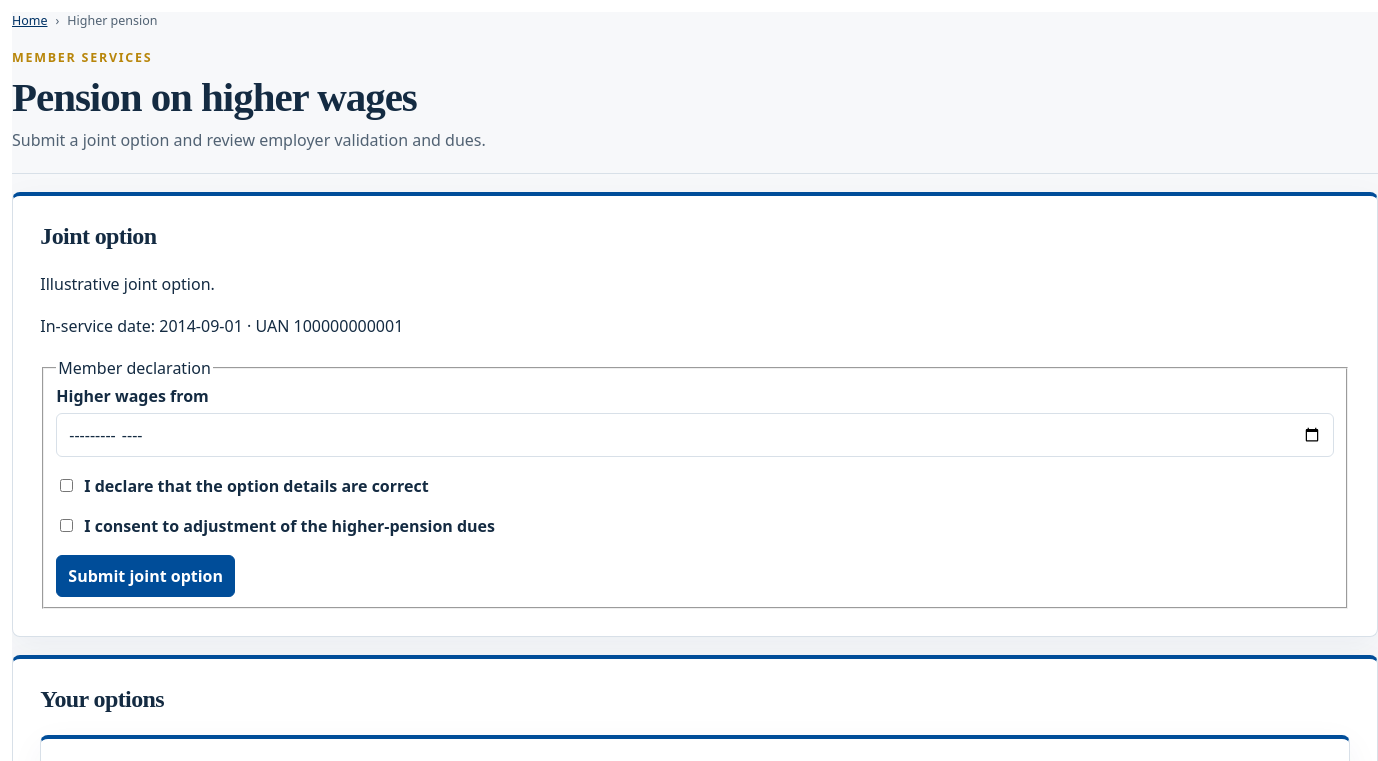
Test: requires both member declarations before requesting step-up
Expected: the element that starts with "Member declaration" is enabled, left=42, top=357, right=1348, bottom=609
Type "2012-01" into the field labelled "Higher wages from".
click(695, 435); type("2012-01")  # box left=56, top=413, right=1334, bottom=457
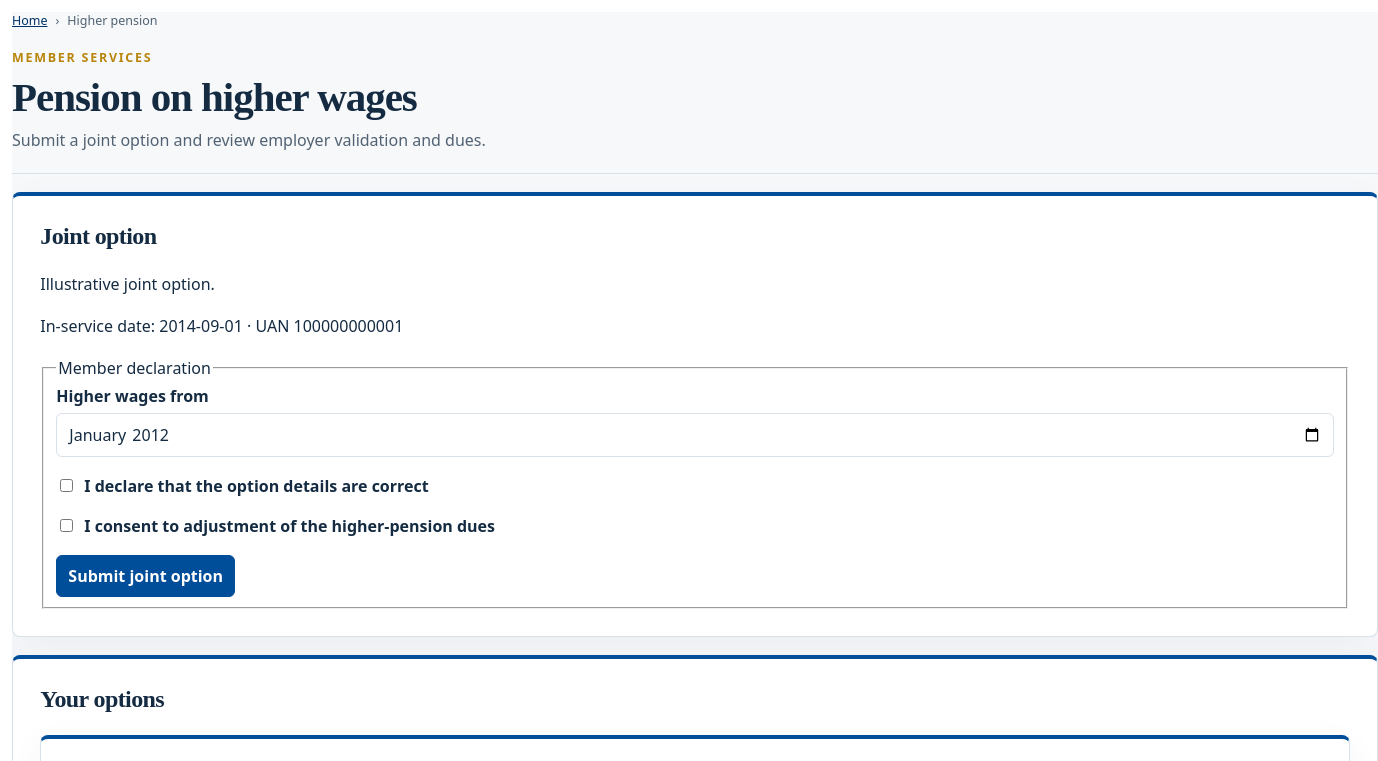
Click the checkbox labelled "I declare that the option details are correct".
click(67, 486)  # box left=60, top=479, right=73, bottom=492
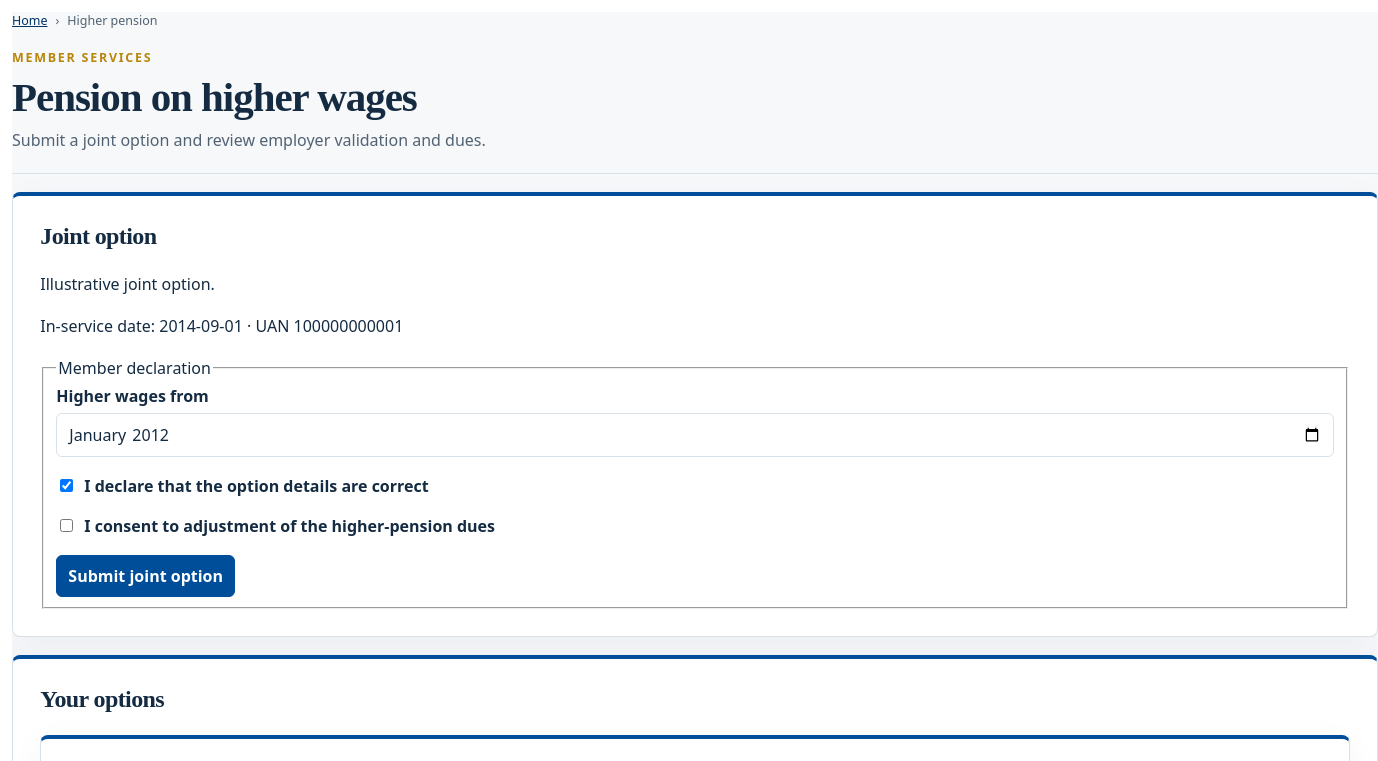
Click the checkbox labelled "I consent to adjustment of the higher-pension dues".
click(67, 526)  # box left=60, top=519, right=73, bottom=532
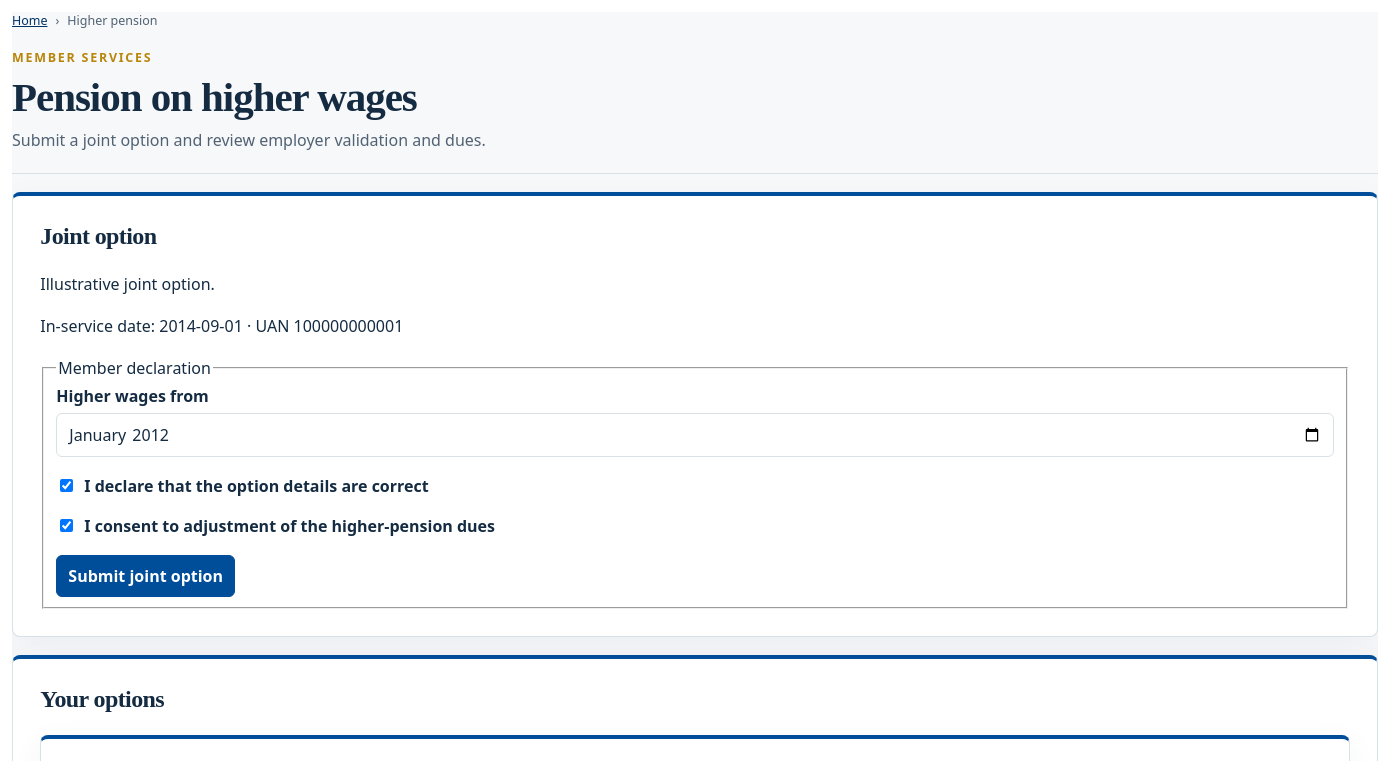
Click the checkbox labelled "I consent to adjustment of the higher-pension dues".
click(67, 526)  # box left=60, top=519, right=73, bottom=532
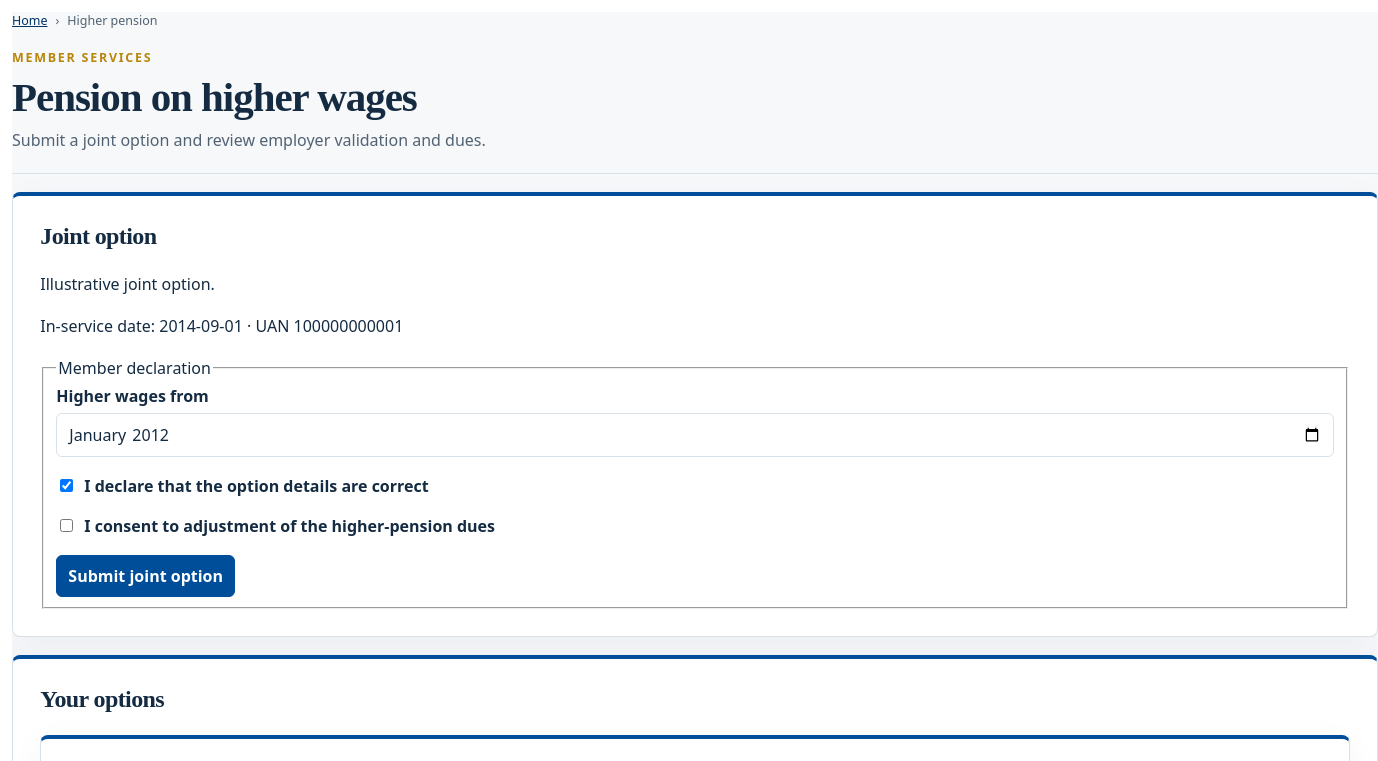
Submit the form named "Submit higher-pension option", box left=40, top=357, right=1350, bottom=609
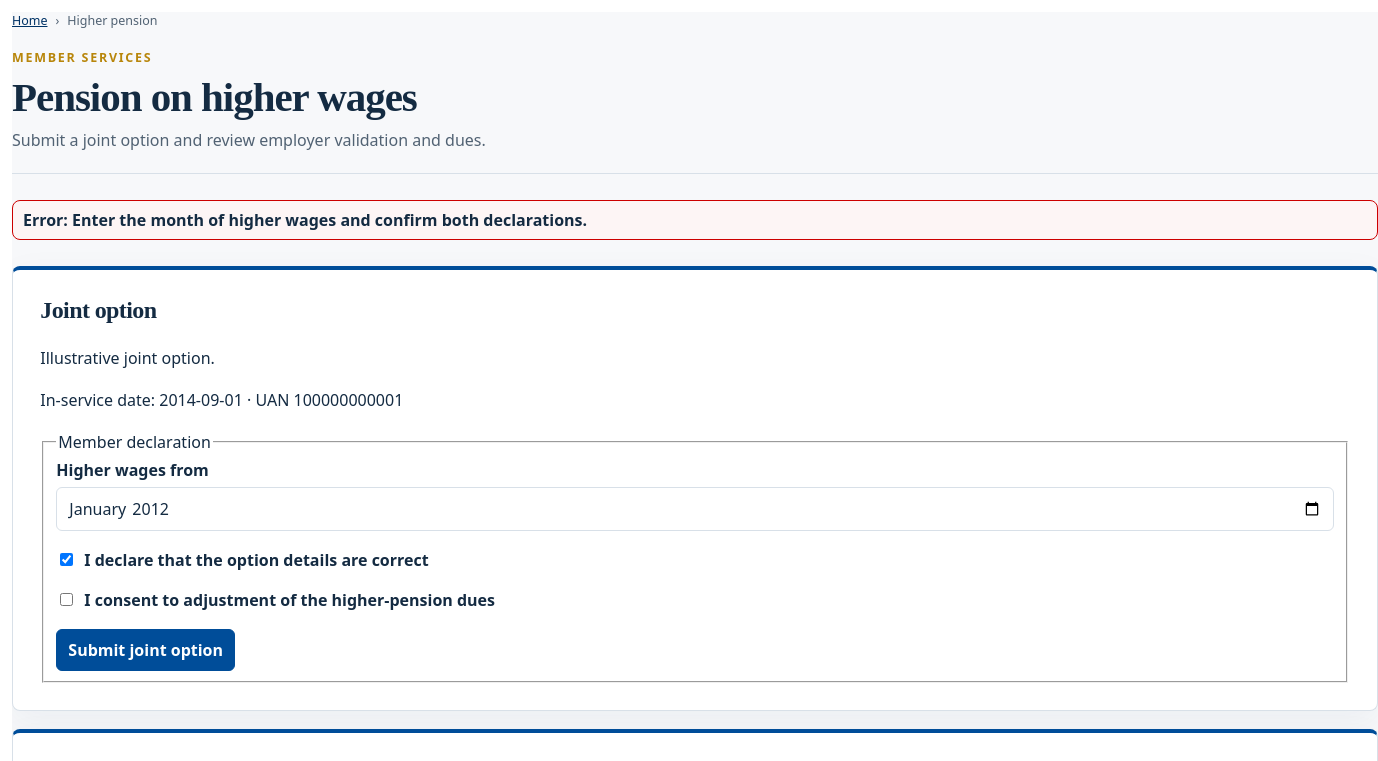
Result: the message "Error: Enter the month of higher wages and confirm both declarations." is shown at left=12, top=200, right=1377, bottom=240
